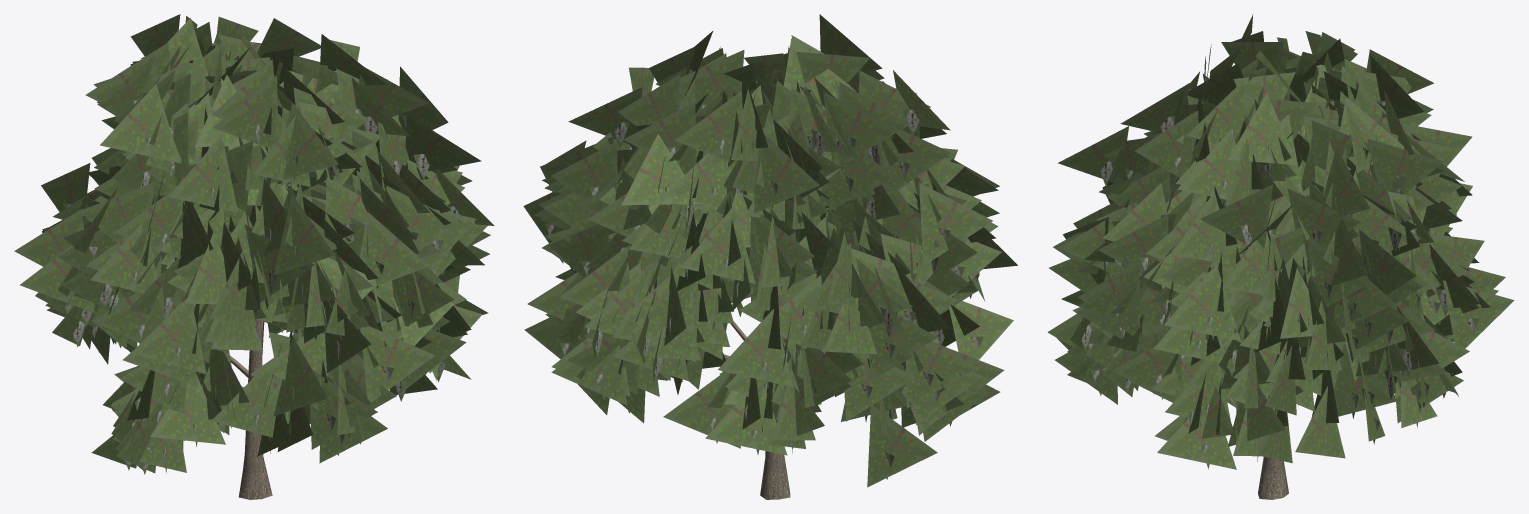
The model's file is Robinia_Pseudoacacia_Spring_Young.glb.
3 renders of one model, left to right at view 1: azimuth 30°, elevation 25°; view 2: azimuth 150°, elevation 25°; view 3: azimuth 270°, elevation 25°, orthographic. The views are drawn at different scales.
Visible parts, largest first — view 1: Robinia_Pseudoacacia_Spring_Young__LOD3; view 2: Robinia_Pseudoacacia_Spring_Young__LOD3; view 3: Robinia_Pseudoacacia_Spring_Young__LOD3.
Boxes of the visible parts, x1,y1,x2,y2 form: Robinia_Pseudoacacia_Spring_Young__LOD3: (14,14,494,499); Robinia_Pseudoacacia_Spring_Young__LOD3: (523,14,1017,499); Robinia_Pseudoacacia_Spring_Young__LOD3: (1047,14,1514,499).
Size of the model in its own units: 9.17 by 9.15 by 8.71.
Materials: 2 (2 with a texture image).
